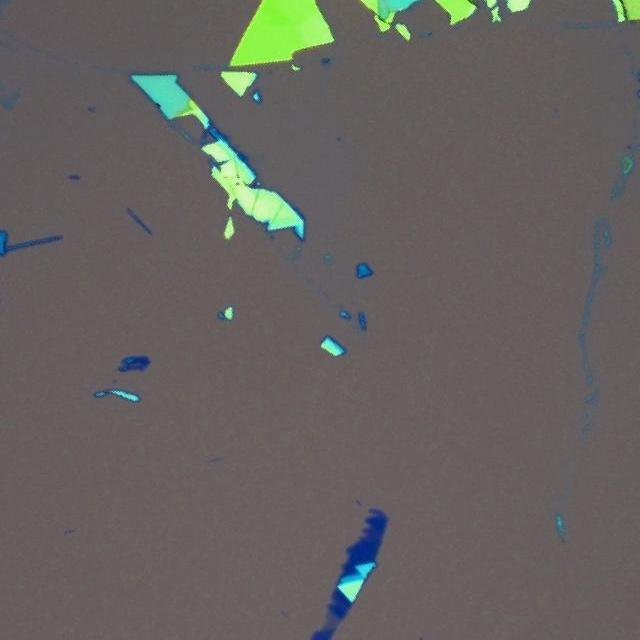monolayer-eWW4: (320, 608, 339, 629)
